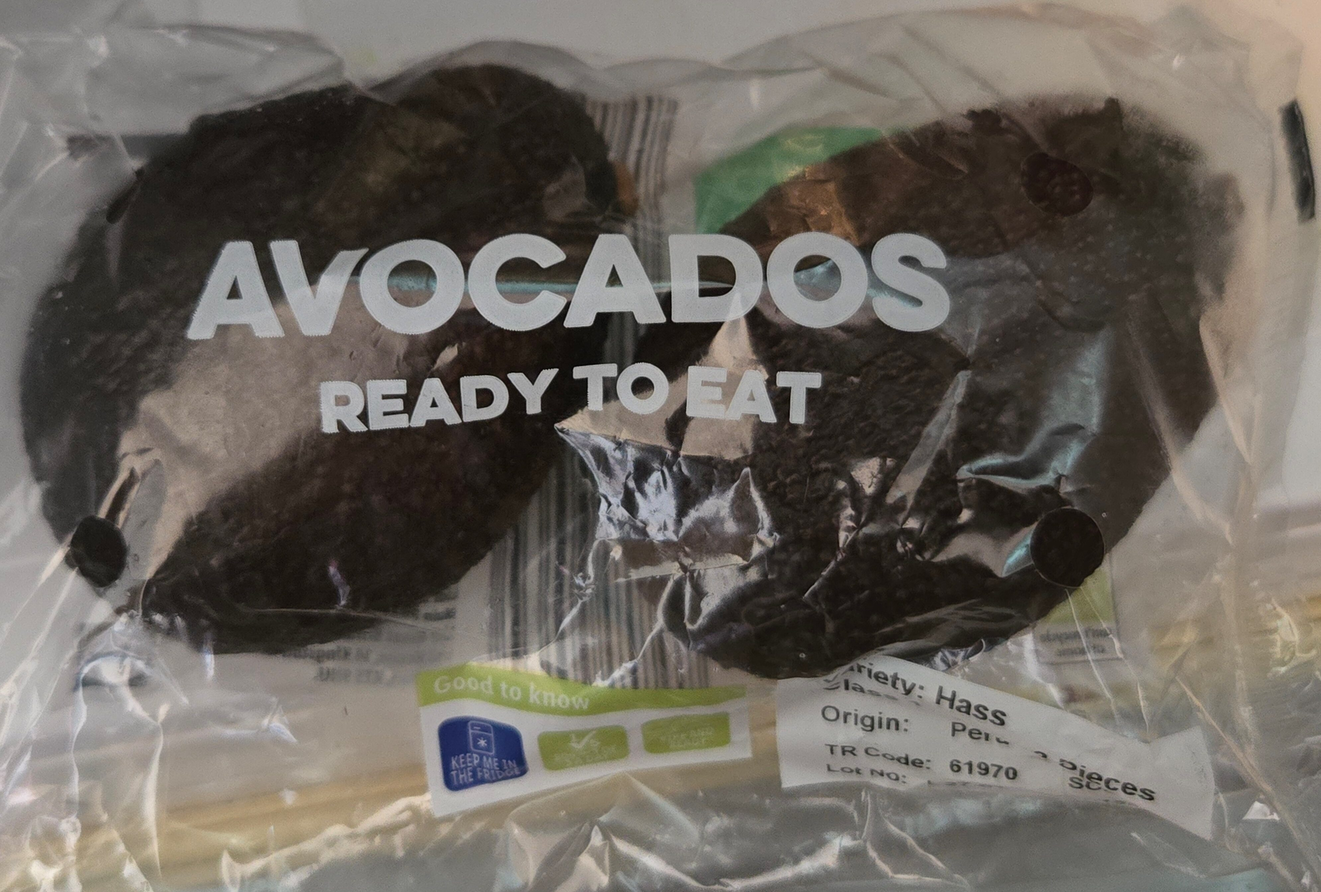Avocados: (66, 45, 1255, 847)
